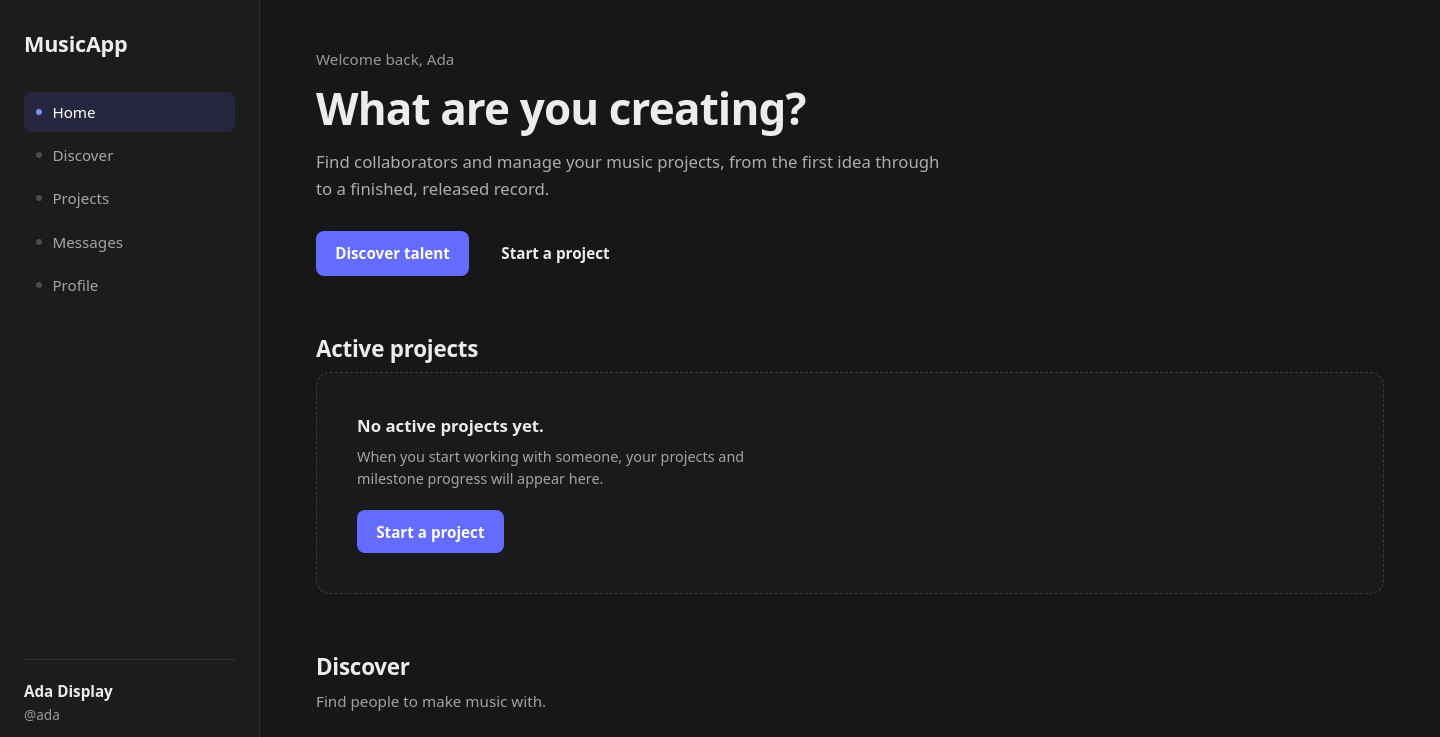
Test case: MVP-013 discover search › sends the search text on every discover dimension and renders the match
Click the button "Discover".
click(130, 155)  # box x1=24 y1=136 x2=235 y2=175
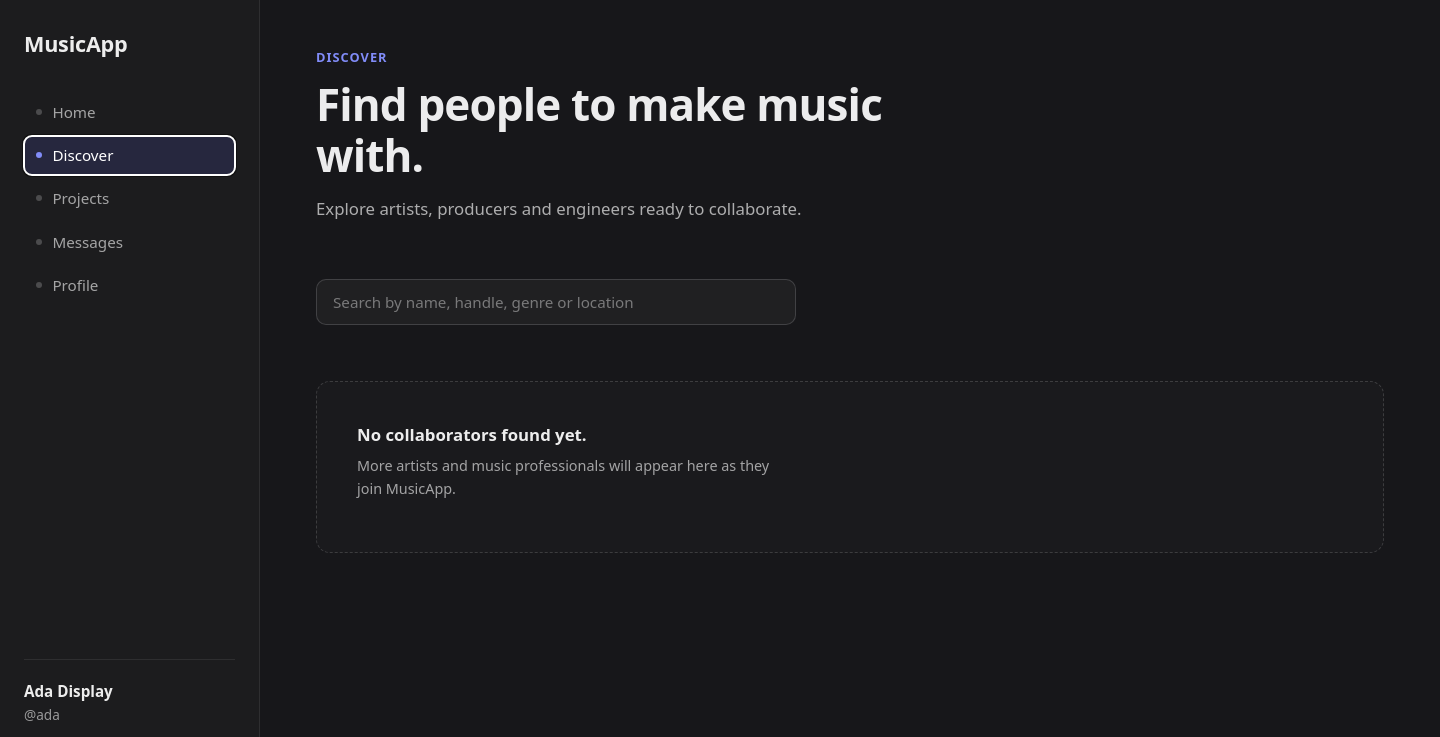
Expected: the text "No collaborators found yet." is shown, x1=357 y1=422 x2=587 y2=448
Type "nyx" into the search field labelled "Search by name, handle, genre or location".
click(556, 302); type("nyx")  # box x1=316 y1=279 x2=796 y2=325
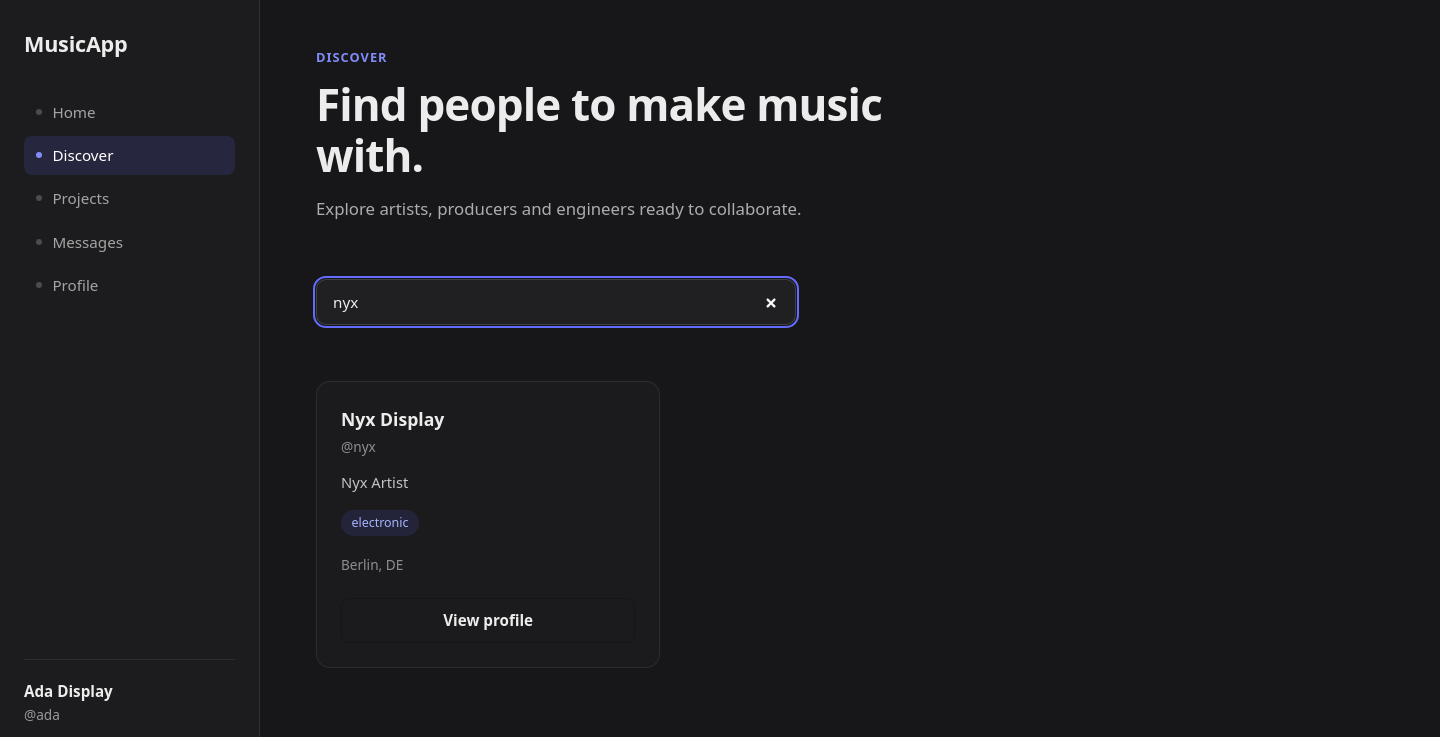
Expected: the text "Nyx Display" is shown, x1=341 y1=406 x2=444 y2=433
